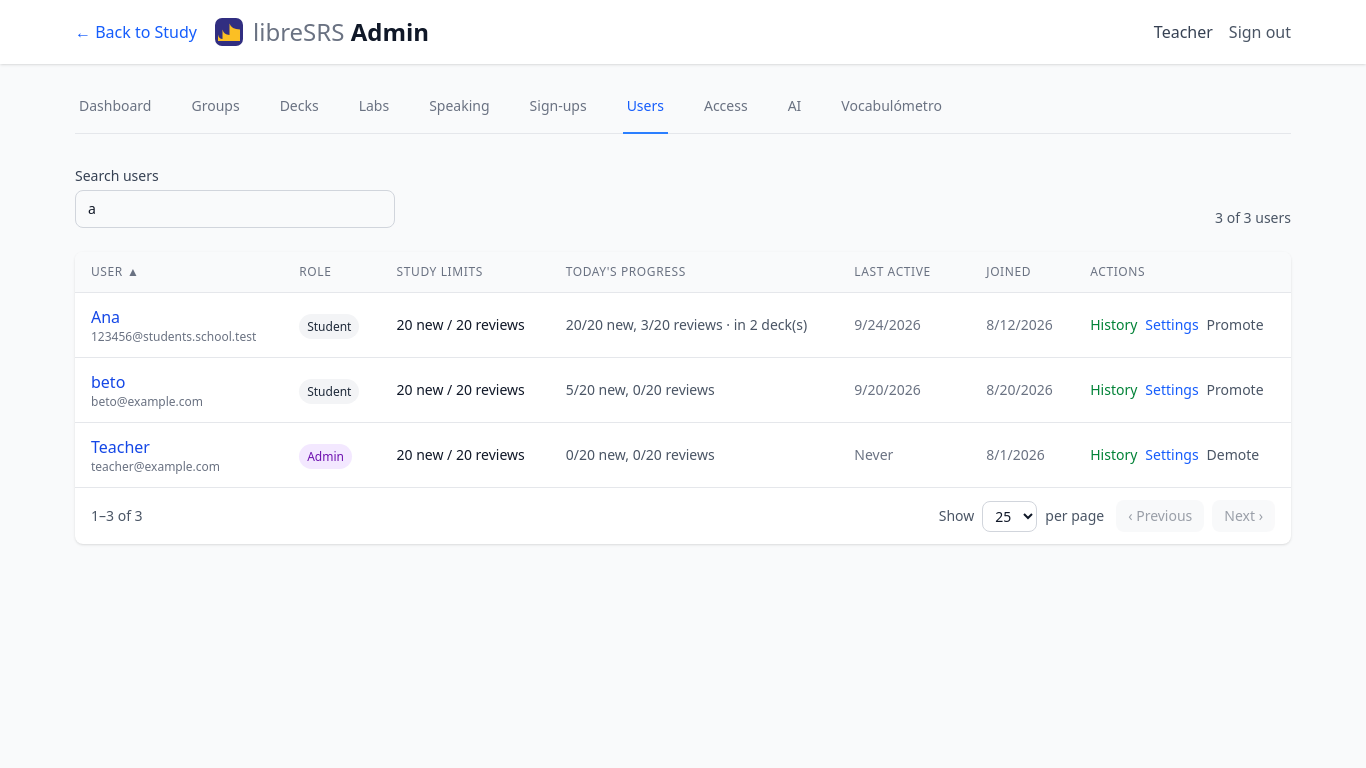
Admin: the Users tab › opens a user from their name and comes back to the same list, focused on them
The image size is (1366, 768).
Click the link "Ana" at (106, 317), box [91, 306, 120, 328]
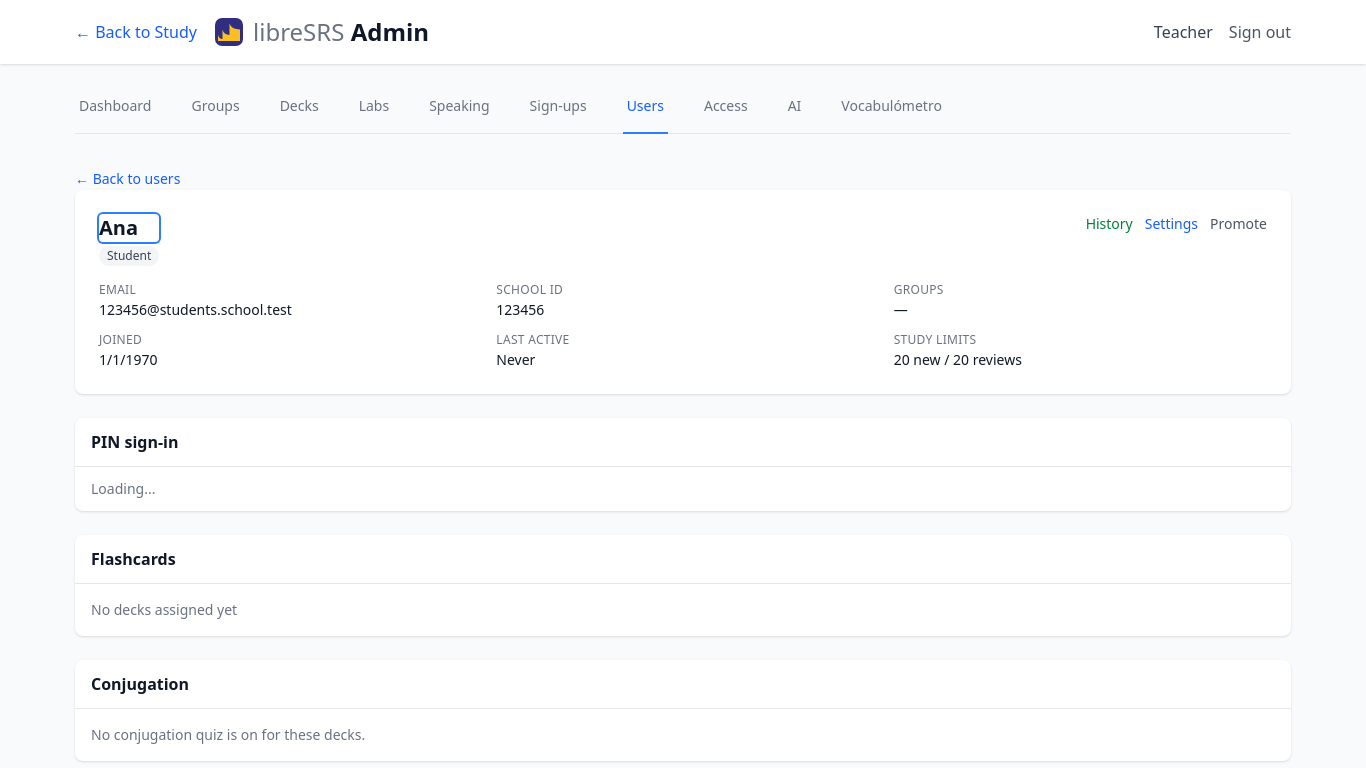
Click the link "← Back to users" at (128, 178), box [75, 169, 180, 188]
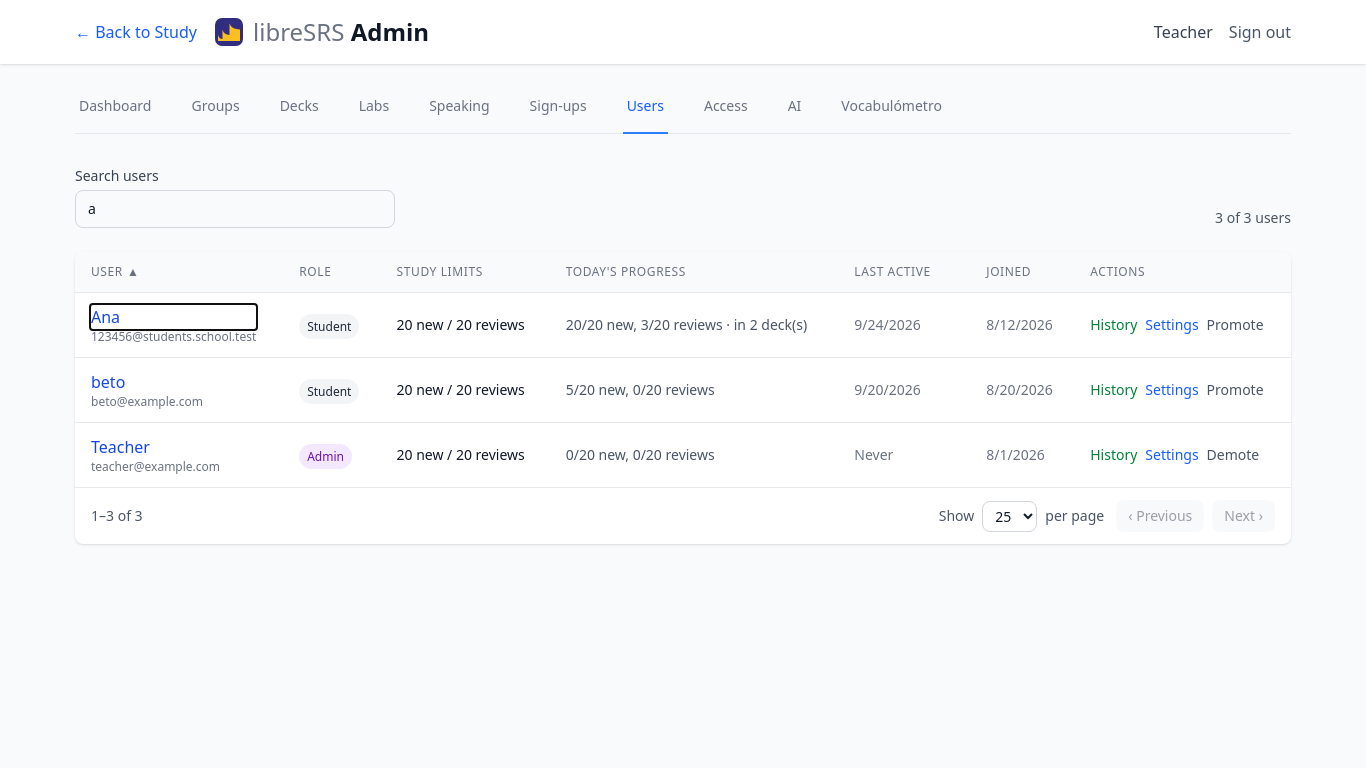
Check: the search field labelled "Search users" holds "a", box [75, 190, 395, 228]
